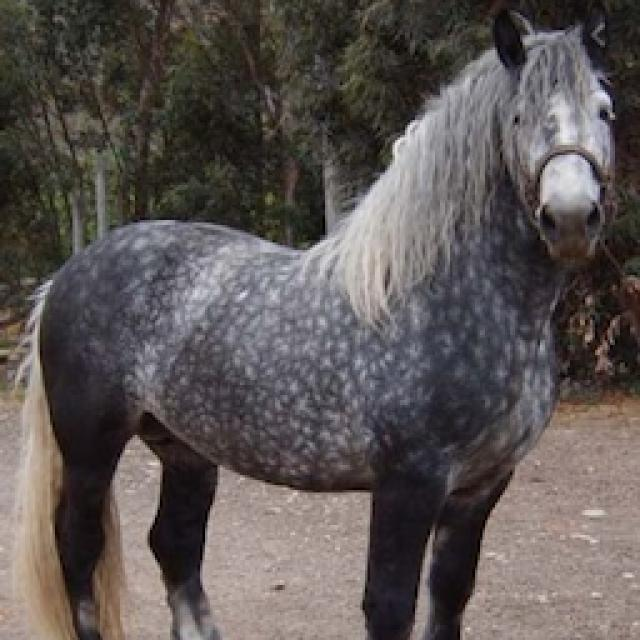Horse: (0, 0, 628, 638)
